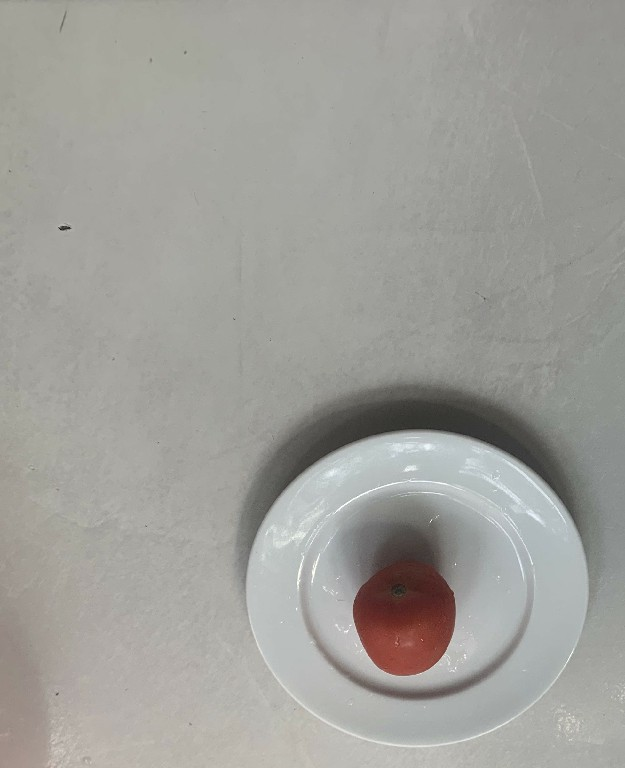OK: (349, 554, 455, 679)
